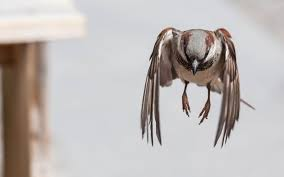hsparrow: (137, 23, 250, 150)
